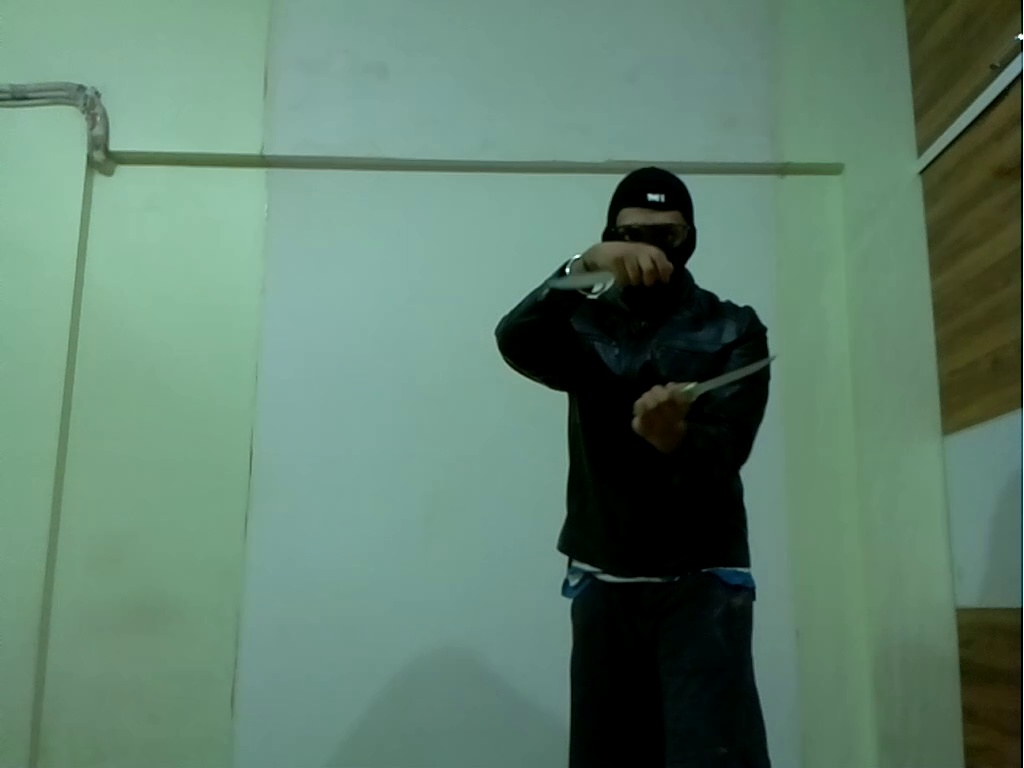knife: (675, 351, 785, 400)
